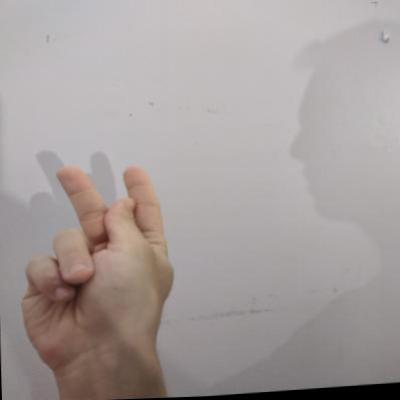hand: (13, 155, 187, 382)
